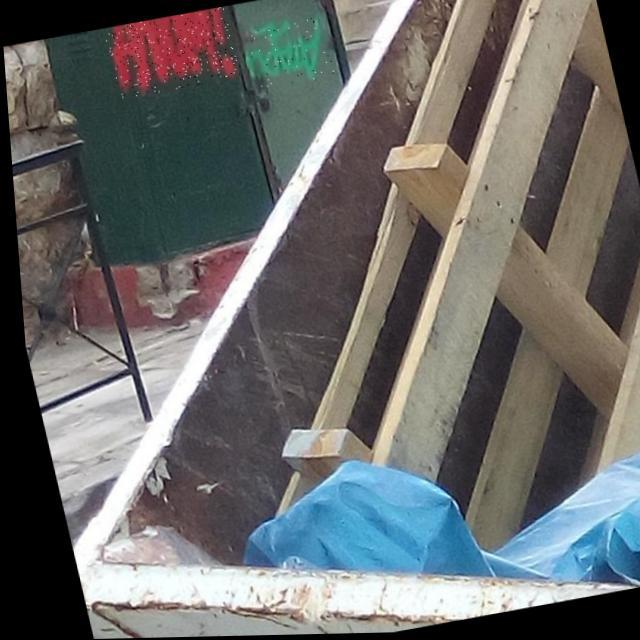-: (102, 7, 241, 100), (238, 14, 336, 93)
